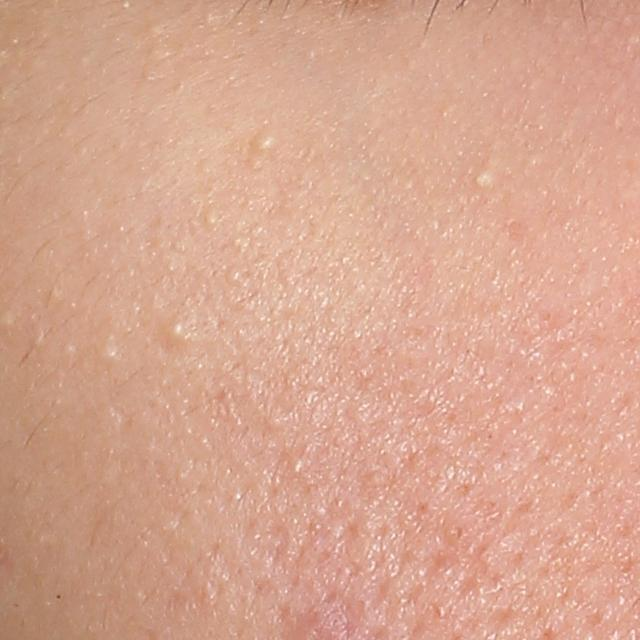other: (473, 167, 496, 194), (250, 129, 277, 152), (201, 205, 221, 228)
